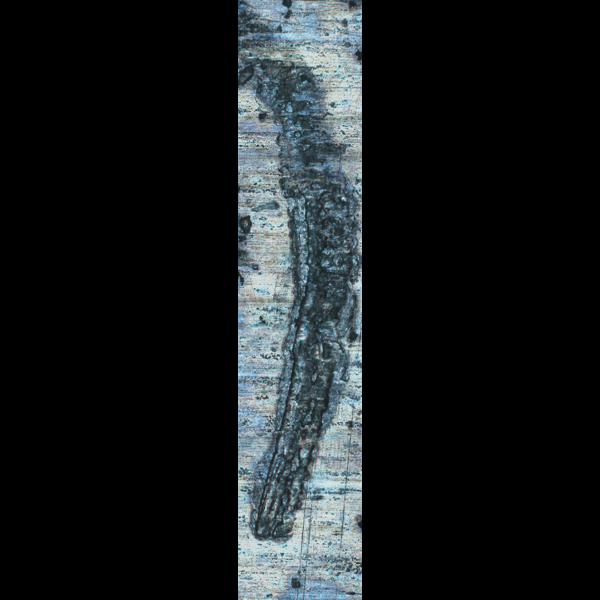d: (242, 11, 362, 549)
